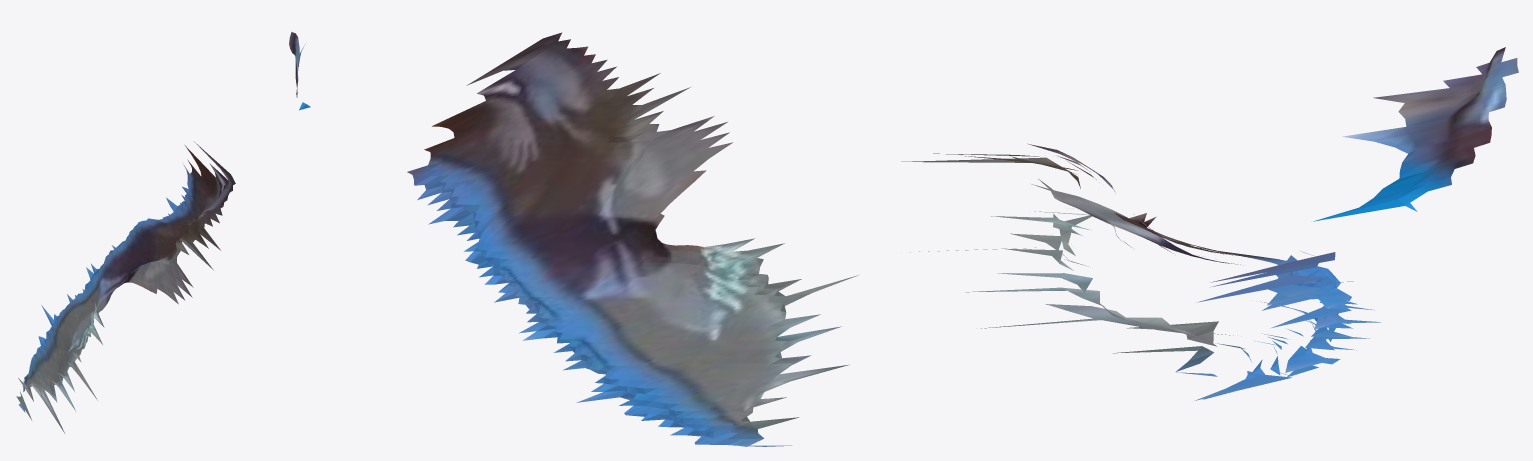
The model's file is observed-surface.glb.
The picture shows the model from 3 angles, left to right: view 1: azimuth 30°, elevation 25°; view 2: azimuth 150°, elevation 25°; view 3: azimuth 270°, elevation 25°; orthographic projection. The views are drawn at different scales.
Parts seen in each view (by area): view 1: geometry_0; view 2: geometry_0; view 3: geometry_0.
Part boxes in pixels (box(x1,y1,x2,y2)): geometry_0: box(16, 141, 235, 433); geometry_0: box(289, 32, 858, 446); geometry_0: box(901, 47, 1518, 400).
Bounding box in the file's own units: 0.3679 × 0.3763 × 0.3593.
Materials: 1 (1 with a texture image).
